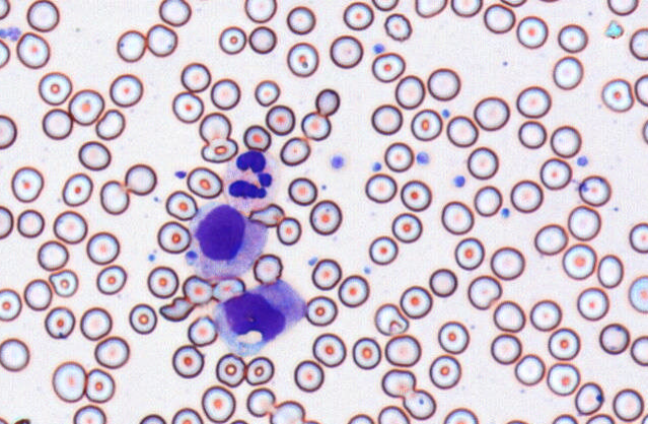GRAN: (225, 149, 279, 208)
MONO: (212, 280, 306, 356), (192, 201, 267, 278)
PLT: (415, 151, 431, 167), (331, 155, 344, 169), (184, 250, 197, 263), (370, 42, 384, 54), (454, 175, 467, 187), (576, 155, 589, 167), (371, 161, 383, 172), (500, 207, 511, 219), (306, 256, 319, 266), (440, 109, 452, 119), (0, 27, 7, 38), (148, 252, 155, 262)
RBC: (51, 360, 86, 402), (68, 88, 104, 125), (201, 385, 236, 423), (473, 96, 509, 131), (16, 31, 50, 68), (562, 243, 596, 280), (384, 334, 421, 367), (156, 220, 191, 254), (312, 332, 346, 367), (94, 335, 129, 369), (567, 205, 601, 240), (37, 71, 72, 105), (186, 166, 222, 199), (309, 199, 342, 235), (286, 41, 319, 77), (53, 210, 87, 244), (490, 246, 524, 280), (546, 362, 580, 396), (329, 34, 363, 68), (109, 73, 143, 107), (576, 286, 609, 321), (516, 85, 551, 118), (11, 166, 43, 202), (79, 306, 112, 340), (171, 344, 204, 378), (399, 285, 432, 319), (427, 67, 460, 101), (510, 179, 543, 213), (429, 354, 461, 389), (146, 265, 179, 298), (86, 231, 119, 264), (547, 327, 580, 360), (402, 388, 436, 420), (61, 172, 93, 206), (437, 320, 469, 354), (441, 200, 473, 234), (601, 78, 633, 112), (394, 74, 425, 109), (552, 55, 583, 90), (99, 179, 129, 215), (337, 274, 369, 307), (124, 163, 157, 195), (534, 223, 567, 255), (492, 300, 525, 332), (41, 107, 73, 140), (410, 108, 442, 141), (539, 157, 571, 190), (612, 388, 644, 421), (26, 0, 59, 32), (516, 15, 548, 48), (578, 174, 611, 206), (146, 23, 177, 57), (371, 51, 405, 82), (381, 368, 416, 398), (215, 352, 245, 387), (85, 368, 115, 403), (199, 111, 231, 143), (171, 91, 203, 123), (446, 115, 478, 147), (529, 299, 561, 331), (293, 359, 324, 392), (304, 295, 337, 326), (44, 306, 75, 339), (364, 172, 397, 203), (467, 146, 498, 179), (574, 381, 604, 415), (187, 315, 218, 347), (514, 353, 545, 385), (371, 103, 402, 135), (598, 322, 629, 354), (550, 125, 581, 157), (400, 179, 431, 211), (351, 336, 381, 369), (78, 140, 111, 170), (116, 29, 146, 62), (454, 237, 484, 270), (0, 337, 29, 371), (200, 137, 237, 163), (96, 264, 127, 295), (490, 333, 521, 364), (391, 212, 422, 243), (311, 258, 341, 290), (165, 190, 197, 220), (37, 240, 69, 270), (95, 108, 125, 140), (210, 78, 240, 110), (483, 3, 515, 33), (252, 253, 282, 284), (279, 136, 310, 166), (265, 104, 295, 135), (180, 62, 211, 92), (23, 278, 52, 310), (342, 1, 374, 30), (597, 254, 624, 288), (368, 235, 398, 265), (128, 303, 157, 334), (384, 141, 413, 172), (473, 185, 502, 216), (557, 23, 588, 52), (246, 387, 275, 417), (287, 176, 317, 205), (428, 267, 457, 297), (300, 111, 330, 140), (158, 0, 191, 26), (245, 356, 274, 385), (383, 12, 412, 41), (286, 5, 315, 34), (16, 208, 44, 238), (269, 400, 305, 423), (242, 124, 271, 152), (218, 25, 246, 54), (518, 119, 546, 148), (248, 25, 276, 53), (0, 287, 22, 321), (244, 0, 276, 23), (314, 88, 340, 116), (276, 216, 301, 245), (628, 275, 647, 313), (254, 79, 280, 106), (72, 404, 106, 423), (0, 114, 17, 149), (414, 0, 447, 18), (629, 27, 647, 60), (377, 405, 409, 423), (442, 407, 478, 423), (629, 222, 647, 253), (450, 0, 482, 17), (630, 335, 647, 366), (171, 407, 203, 423), (607, 0, 638, 15), (0, 205, 13, 239), (634, 73, 647, 106), (0, 38, 10, 68), (371, 0, 398, 11), (585, 413, 614, 423), (138, 413, 166, 423), (346, 413, 374, 423), (551, 413, 578, 423), (0, 0, 10, 19), (500, 0, 526, 7), (504, 418, 529, 423), (642, 119, 647, 143), (229, 418, 249, 424), (13, 417, 31, 423), (302, 419, 321, 424), (538, 0, 560, 3), (0, 416, 9, 423), (641, 413, 647, 423)
Schistocyte: (466, 275, 502, 310), (374, 303, 410, 337), (157, 295, 198, 322), (247, 202, 285, 228), (182, 275, 215, 304), (48, 269, 79, 298), (212, 279, 244, 301), (602, 19, 627, 41)
